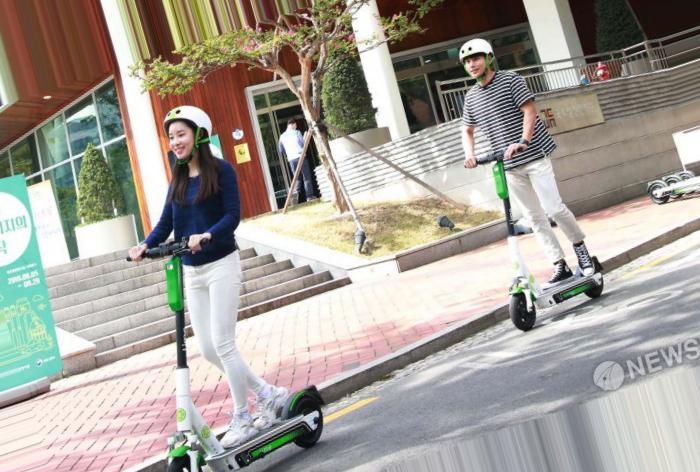scooter: (125, 238, 324, 472), (464, 142, 603, 333)
with helmet: (162, 105, 214, 167), (457, 34, 494, 85)
